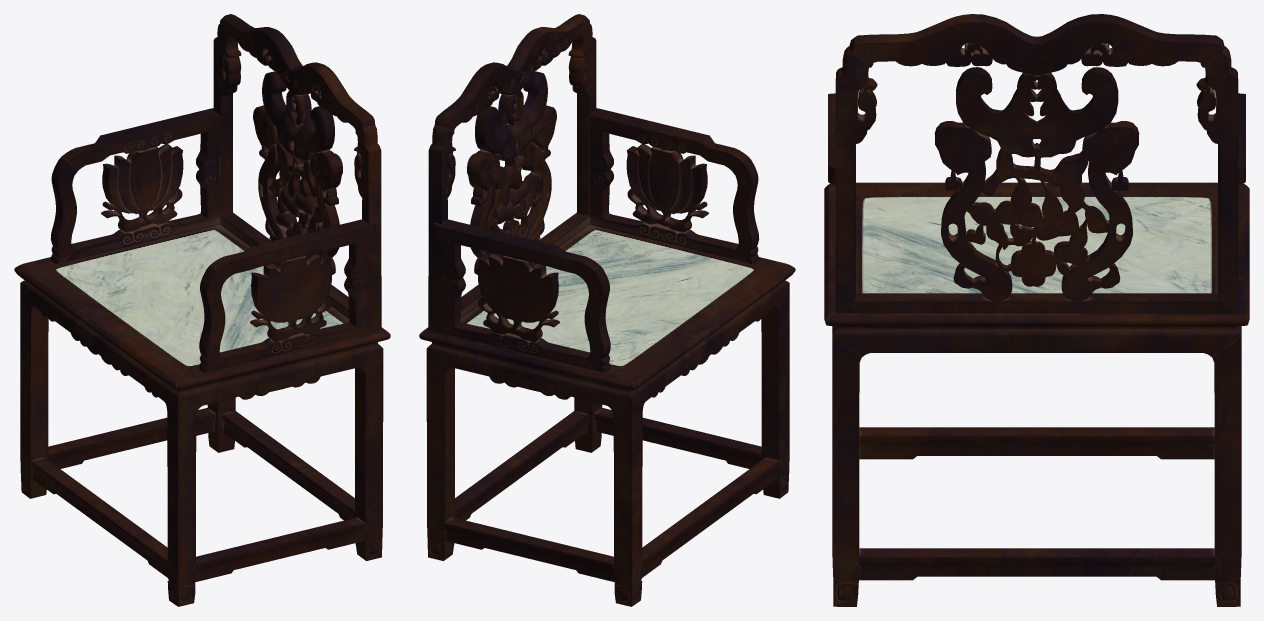
The model's file is SM_Chair01E.fbx.
3 renders of one model, left to right at view 1: azimuth 30°, elevation 25°; view 2: azimuth 150°, elevation 25°; view 3: azimuth 270°, elevation 25°, orthographic. The views are drawn at different scales.
Parts seen in each view (by area): view 1: SM_Chair01E; view 2: SM_Chair01E; view 3: SM_Chair01E.
Part boxes in pixels (<box>): SM_Chair01E: <box>14,14,390,606</box>; SM_Chair01E: <box>419,14,795,606</box>; SM_Chair01E: <box>824,14,1249,606</box>.
Size of the model in its own units: 48 by 63 by 96.
